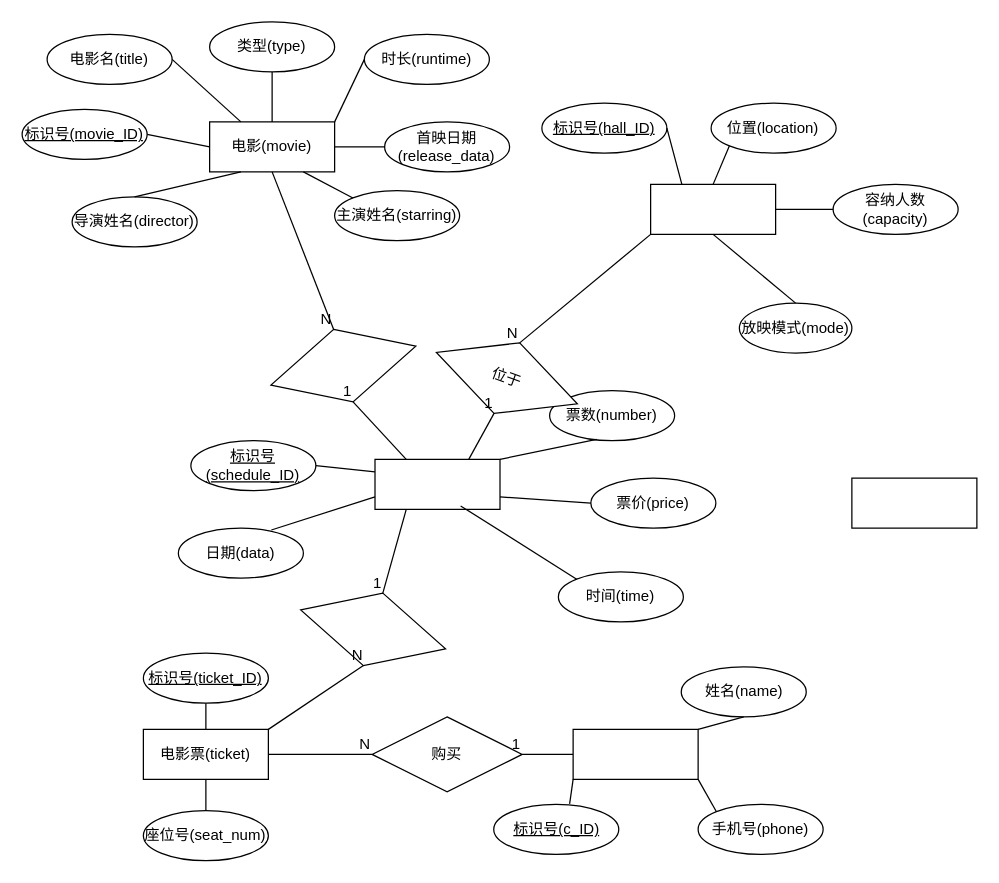
The diagram is 999 pixels wide and 883 high, and some of its shapes have lost their labels. The shapes that lost their labels are listed below. From the top down, each one's centre as x and y in pixels, then its label:
the point at 712,208: 放映厅(hall)
the point at 343,365: 放映
the point at 437,483: 排场(schedule)
the point at 914,502: 李萌2023011305
the point at 373,628: 属于
the point at 635,753: 顾客(customer)
